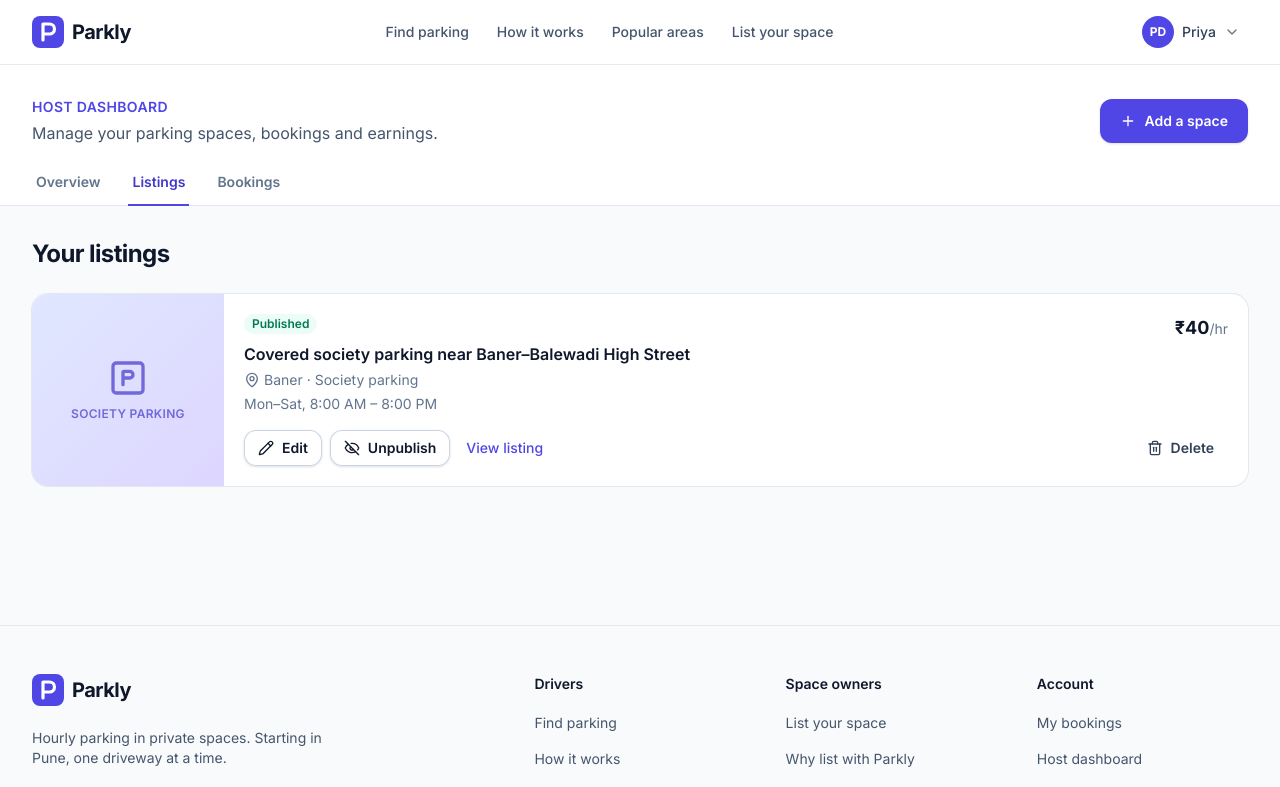
Scenario: Host listings › unpublishes a listing
This screenshot has width=1280, height=787.
Click the button "Unpublish".
click(390, 448)  # box [330,430,450,466]
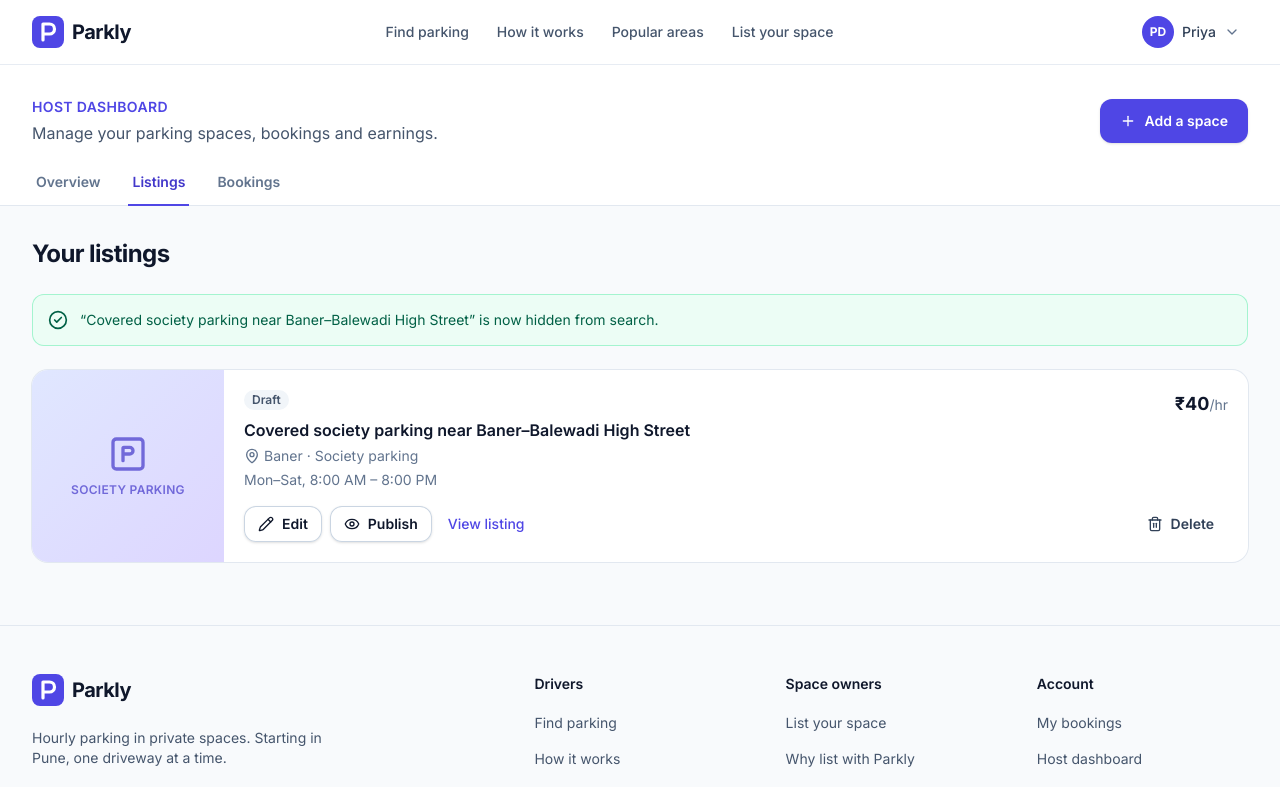
Now the text "is now hidden from search" is shown, box [80,311,658,328]
Now the text "Draft" is shown, box [244,390,289,410]
